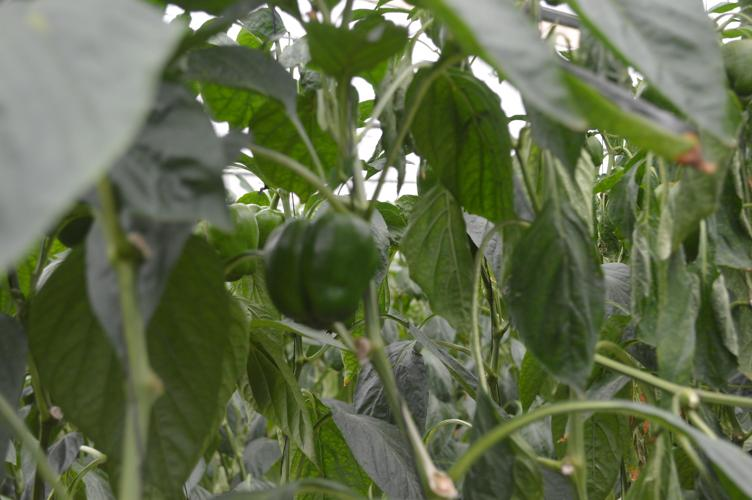BellPepper: (262, 203, 390, 323), (194, 203, 257, 279)
